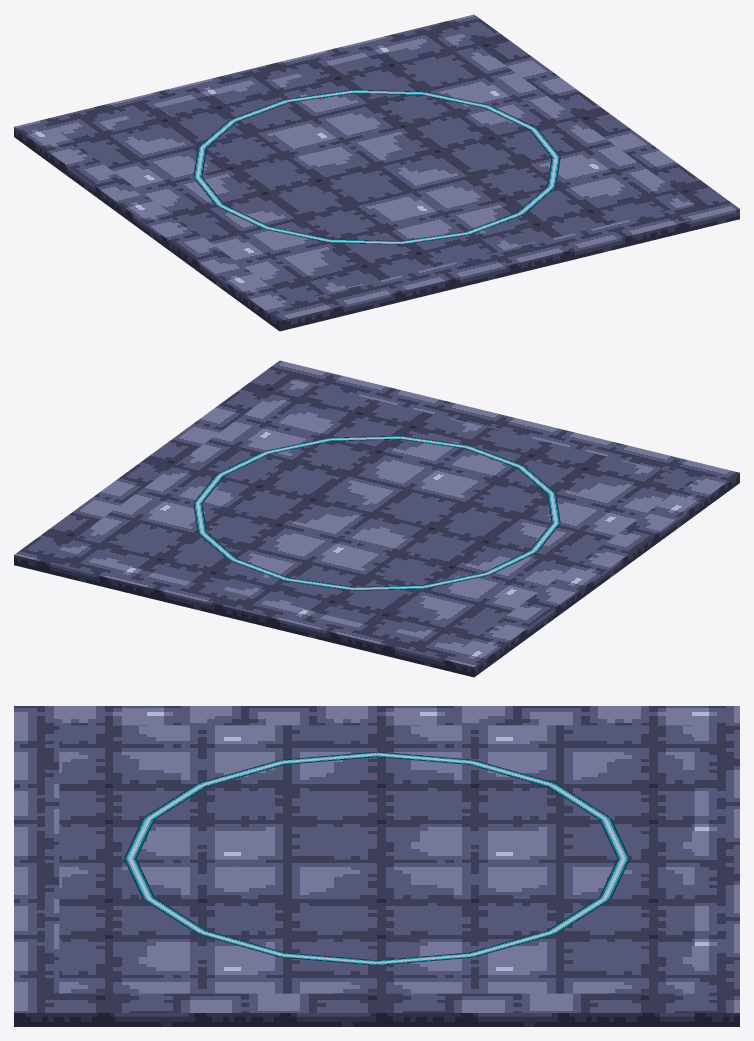
File: cystreet.plaza.glb
The picture shows the model from 3 angles, top to bottom: view 1: azimuth 30°, elevation 25°; view 2: azimuth 150°, elevation 25°; view 3: azimuth 270°, elevation 25°; orthographic projection. The views are drawn at different scales.
Parts seen in each view (by area): view 1: kit_shell_tiles, kit_border, kit_card_inlay; view 2: kit_shell_tiles, kit_border, kit_card_inlay; view 3: kit_shell_tiles, kit_border, kit_card_inlay.
Boxes of the visible parts, x1=… form: kit_shell_tiles: x1=60, y1=33, x2=694, y2=301; kit_border: x1=14, y1=14, x2=739, y2=331; kit_card_inlay: x1=193, y1=89, x2=560, y2=244; kit_shell_tiles: x1=59, y1=379, x2=693, y2=647; kit_border: x1=14, y1=360, x2=739, y2=677; kit_card_inlay: x1=193, y1=435, x2=560, y2=590; kit_shell_tiles: x1=59, y1=725, x2=694, y2=993; kit_border: x1=14, y1=706, x2=739, y2=1026; kit_card_inlay: x1=124, y1=751, x2=629, y2=965.
Bounding box in the file's own units: 8 × 0.18 × 8.
4 materials, 4 textured.
